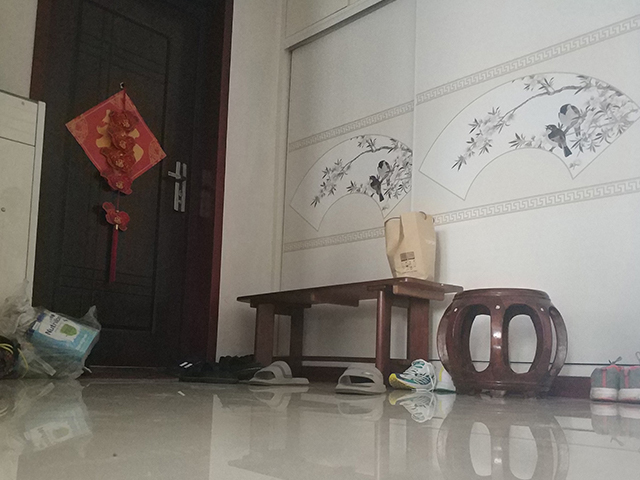slippers: (169, 349, 261, 383), (247, 359, 311, 388), (334, 362, 388, 396)
stool: (235, 276, 464, 390), (435, 286, 569, 400)
